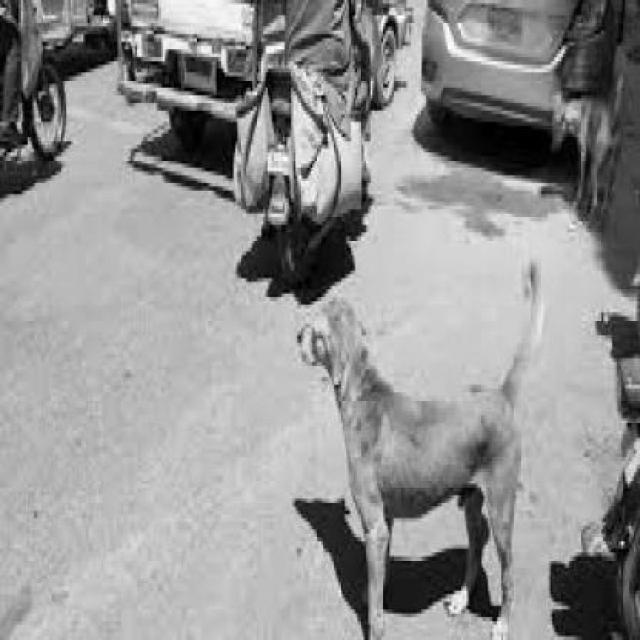Dog: (295, 272, 550, 633), (550, 82, 635, 220)
